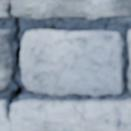brick: (21, 31, 123, 96), (0, 31, 11, 89), (129, 31, 130, 58), (129, 66, 130, 91)
broken_brick: (0, 98, 130, 130), (0, 0, 130, 20), (0, 100, 7, 105)
crack: (0, 2, 22, 128)
